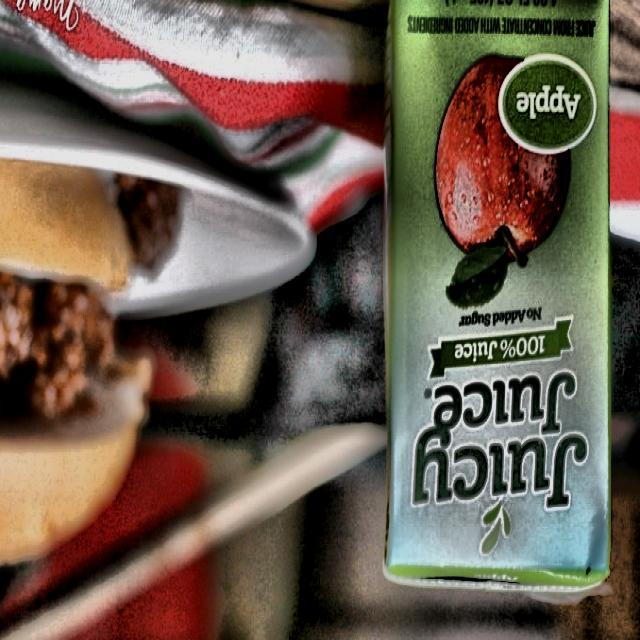cardboard: (382, 0, 614, 598)
